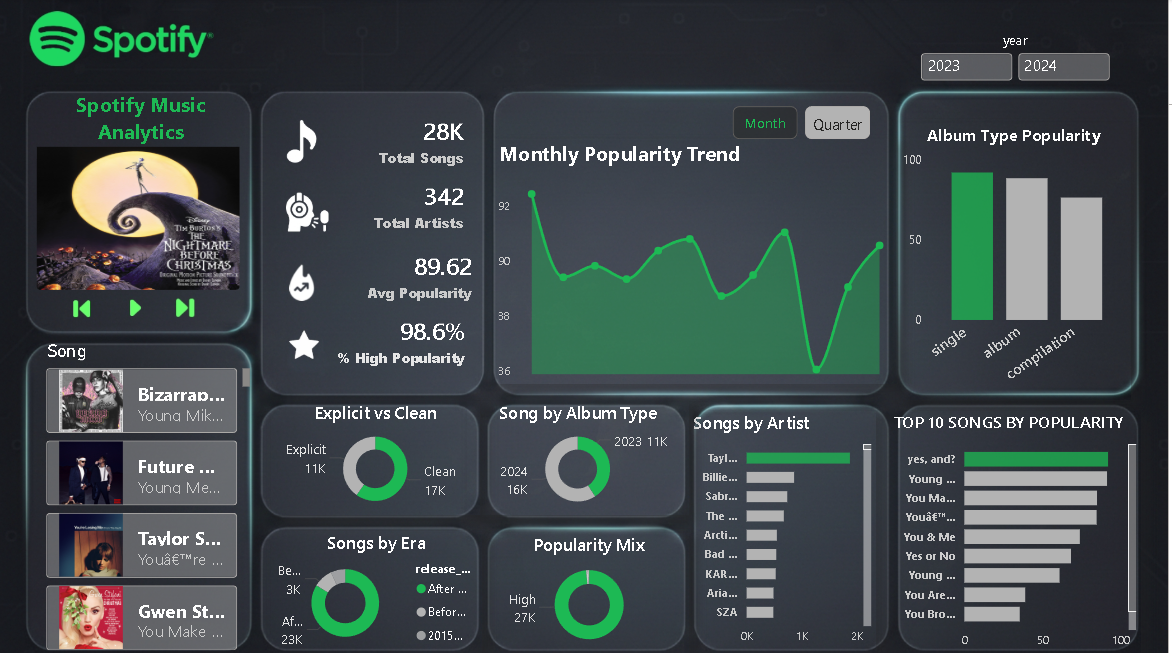

What the dashboard file says about the page in this screenshot:
{"tool":"powerbi","page":{"name":"Page 1","canvas":[1280,720],"ordinal":0},"visuals":[{"type":"lineChart","title":"Monthly Popularity Trend","fields":{"Category":["Spotify.release_date.Variation.Date Hierarchy.Month"],"Y":["Spotify.Average Popularity"]},"box":[544,154,440,268],"z":0},{"type":"clusteredBarChart","title":"TOP 10 SONGS BY POPULARITY","fields":{"Category":["Spotify.song"],"Y":["Spotify.Average Popularity"]},"box":[975.6,450.9,274.6,269.2],"z":1000},{"type":"cardVisual","fields":{"Data":["Spotify.Total Songs"]},"box":[393.6,110,135.8,94.5],"z":2000},{"type":"cardVisual","fields":{"Data":["Spotify.Total Artists"]},"box":[393.6,180.5,135.8,94.5],"z":3000},{"type":"cardVisual","fields":{"Data":["Spotify.Average Popularity"]},"box":[382.5,256.7,155.8,94.2],"z":4000},{"type":"cardVisual","fields":{"Data":["Parameter.% High Popularity Songs"]},"box":[332,327.9,198.1,94.3],"z":5000},{"type":"donutChart","title":"Explicit vs Clean","fields":{"Category":["Spotify.explicit_label"],"Y":["Spotify.Total Songs"]},"box":[299.5,439.5,228.8,124.9],"z":6000},{"type":"clusteredColumnChart","title":"Album Type Popularity","fields":{"Y":["Spotify.Average Popularity"],"Category":["Spotify.album_type_clean"]},"box":[984.3,137,255.9,302.5],"z":7000},{"type":"clusteredBarChart","title":"Songs by Artist","fields":{"Y":["Spotify.Total Songs"],"Category":["Spotify.artist"]},"box":[755.5,451.5,204.7,264.9],"z":8000},{"type":"advancedSlicerVisual","fields":{"Values":["Parameter.Parameter"]},"box":[799.2,112.9,161,46.7],"z":9000},{"type":"donutChart","title":"Song by Album Type","fields":{"Y":["Spotify.Total Songs"],"Category":["Spotify.year_month.Variation.Date Hierarchy.Year","Spotify.year_month.Variation.Date Hierarchy.Quarter","Spotify.year_month.Variation.Date Hierarchy.Month","Spotify.year_month.Variation.Date Hierarchy.Day"]},"box":[513.9,440,242.3,125.5],"z":10000},{"type":"donutChart","title":"Songs by Era","fields":{"Category":["Spotify.release_era"],"Y":["Spotify.Total Songs"]},"box":[299,582.6,230.3,134],"z":11000},{"type":"donutChart","title":"Popularity Mix","fields":{"Category":["Spotify.popularity_category"],"Y":["Spotify.Total Songs"]},"box":[537.9,584.3,218.3,132.3],"z":12000},{"type":"advancedSlicerVisual","fields":{"Values":["Spotify.year"]},"box":[984.8,36.1,256.1,60.2],"z":13000},{"type":"advancedSlicerVisual","title":"Song","fields":{"Values":["Spotify.song"]},"box":[48.7,375,232.6,344.3],"z":14000},{"type":"cardVisual","fields":{"Data":["Min(Spotify.album_cover_url)"]},"box":[38.3,0,232.3,327.9],"z":15000},{"type":"textbox","box":[32.8,95.6,248.7,79.2],"z":16000}]}

Visuals, with their boxes in screenshot pixels (x1, y1, x2, y2), scaled from the page's 1280x720 canvas onto the 1172x653 screenshot:
"Monthly Popularity Trend" lineChart: 498/140/901/383
"TOP 10 SONGS BY POPULARITY" clusteredBarChart: 893/409/1145/652
cardVisual - Spotify.Total Songs: 360/100/485/185
cardVisual - Spotify.Total Artists: 360/164/485/249
cardVisual - Spotify.Average Popularity: 350/233/493/318
cardVisual - Parameter.% High Popularity Songs: 304/297/485/383
"Explicit vs Clean" donutChart: 274/399/484/512
"Album Type Popularity" clusteredColumnChart: 901/124/1136/399
"Songs by Artist" clusteredBarChart: 692/409/879/650
advancedSlicerVisual - Parameter.Parameter: 732/102/879/145
"Song by Album Type" donutChart: 471/399/692/513
"Songs by Era" donutChart: 274/528/485/650
"Popularity Mix" donutChart: 493/530/692/650
advancedSlicerVisual - Spotify.year: 902/33/1136/87
"Song" advancedSlicerVisual: 45/340/258/652
cardVisual - Min(Spotify.album_cover_url): 35/0/248/297
textbox: 30/87/258/159
